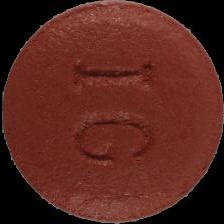63187-425: (0, 0, 224, 224)
